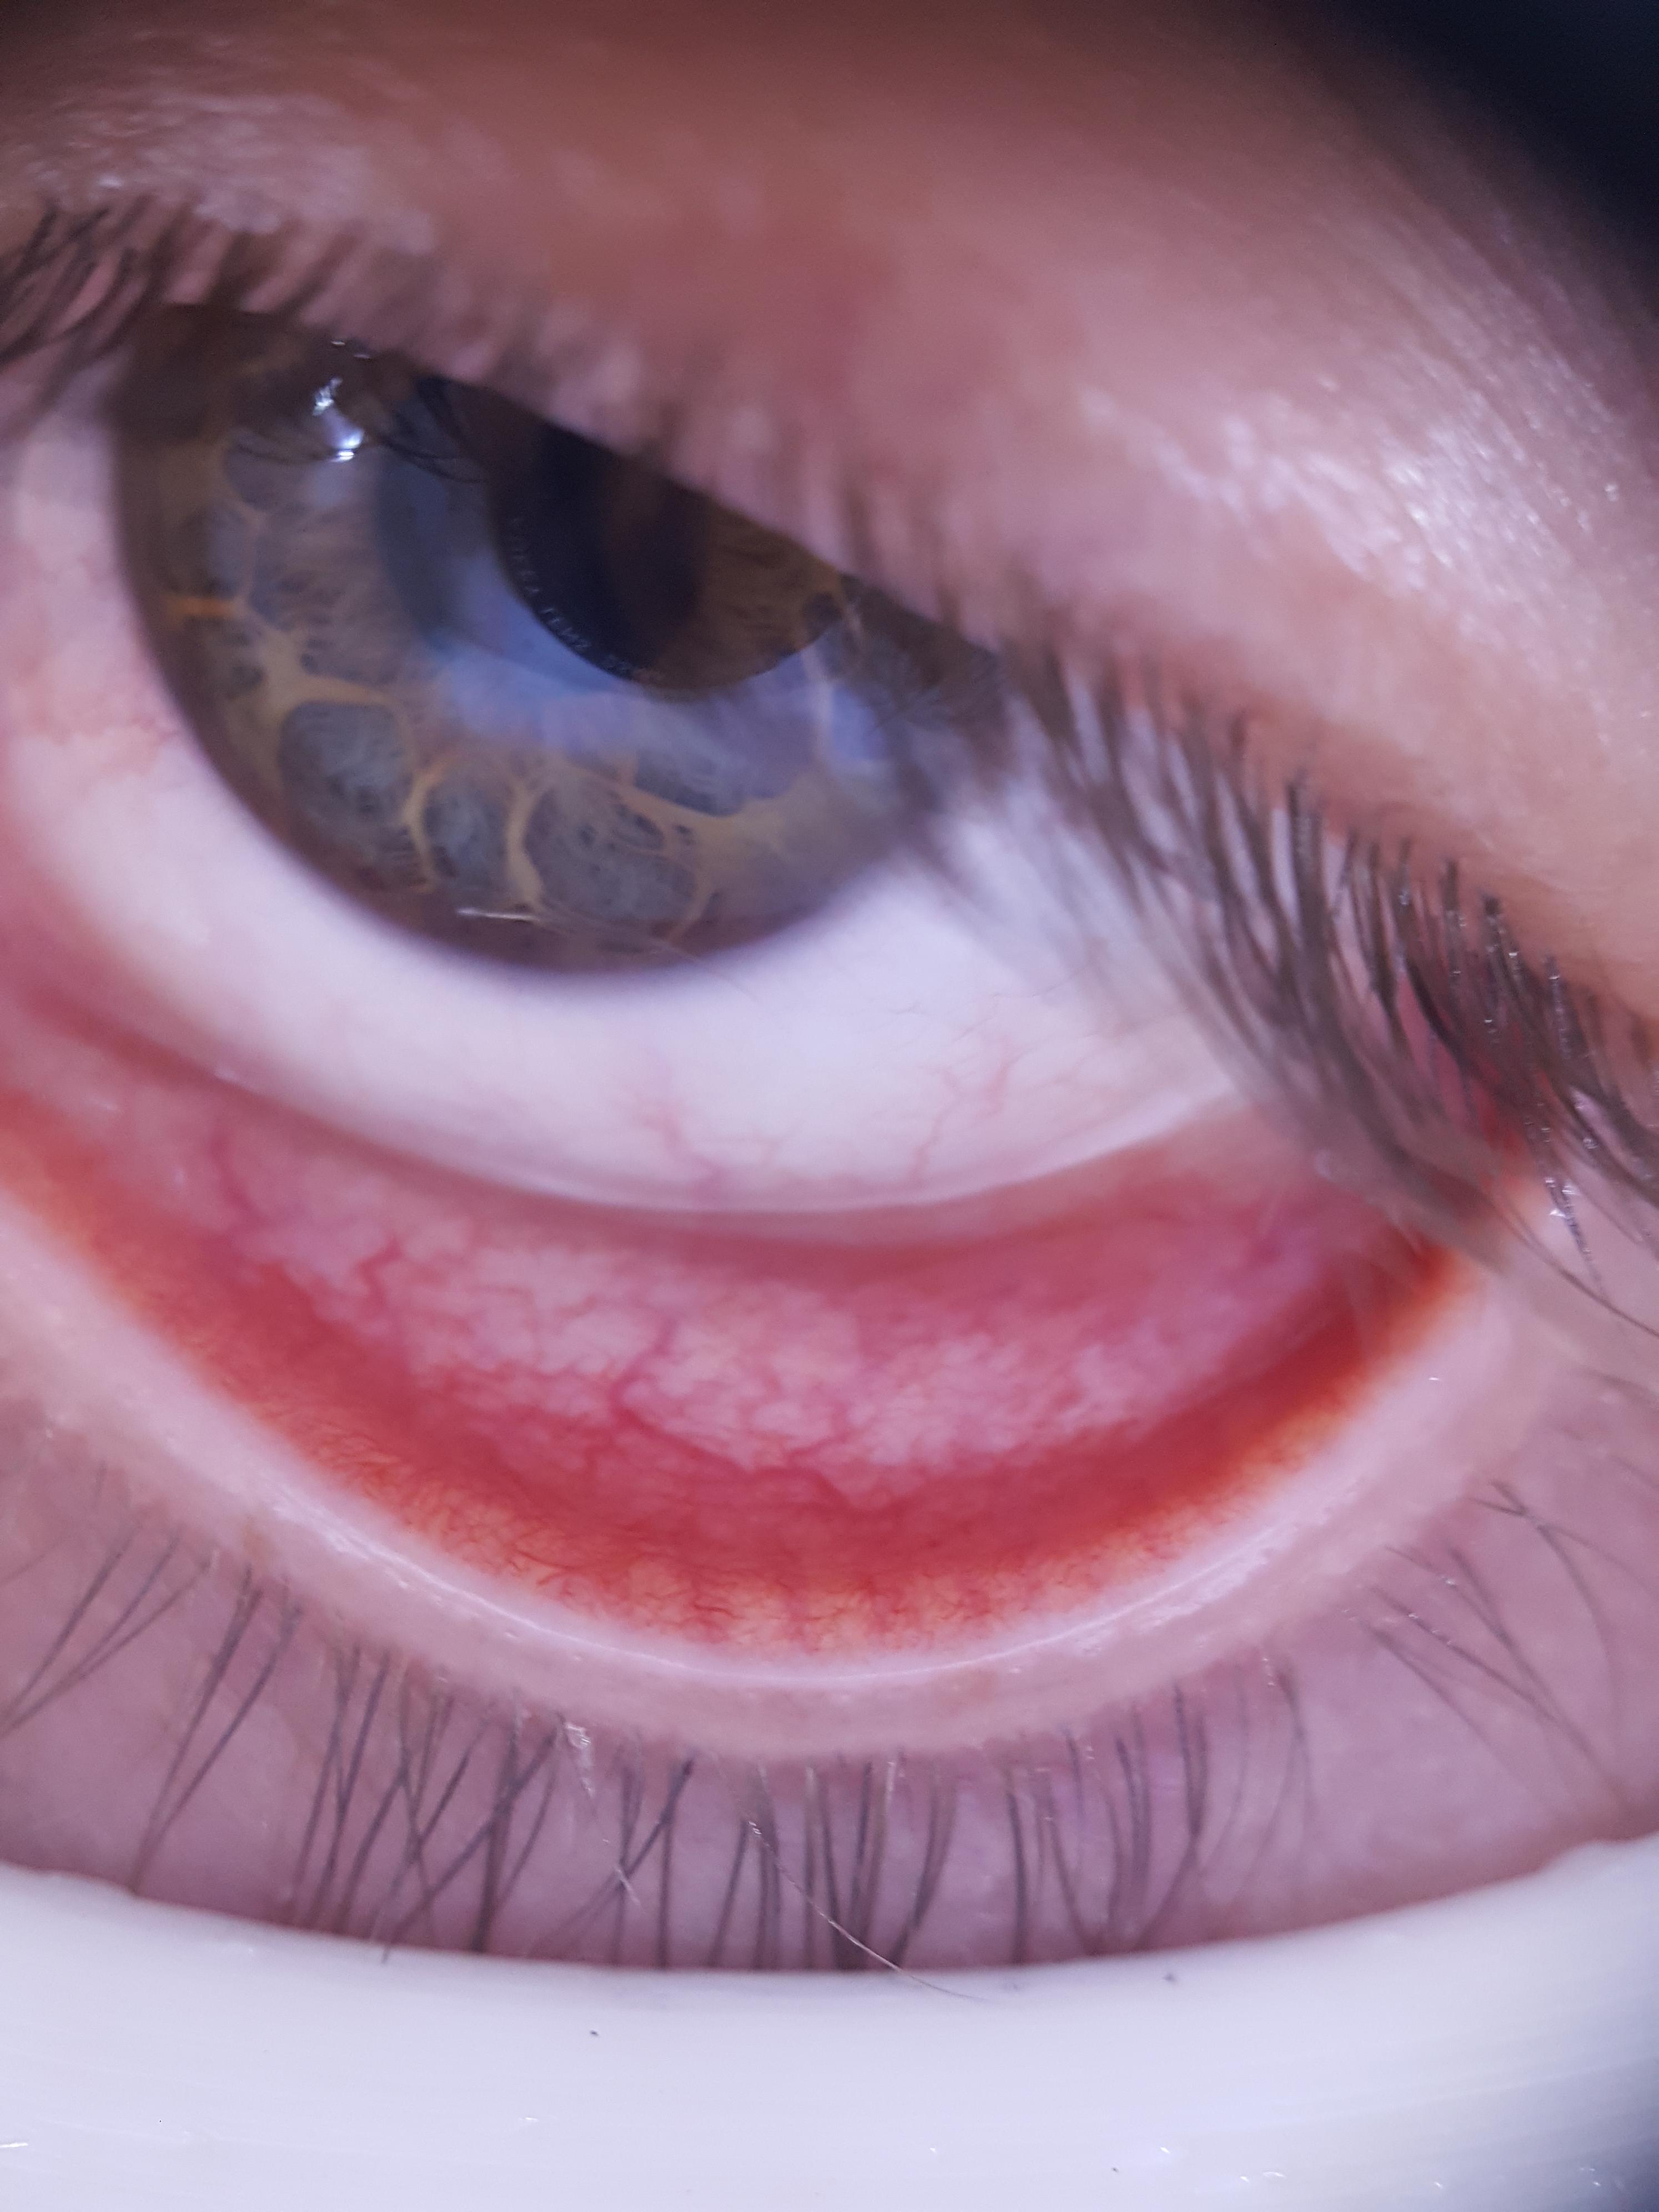forniceal: (0, 958, 1363, 1484)
forniceal_palpebral: (0, 953, 1459, 1655)
palpebral: (0, 1089, 1450, 1639)
